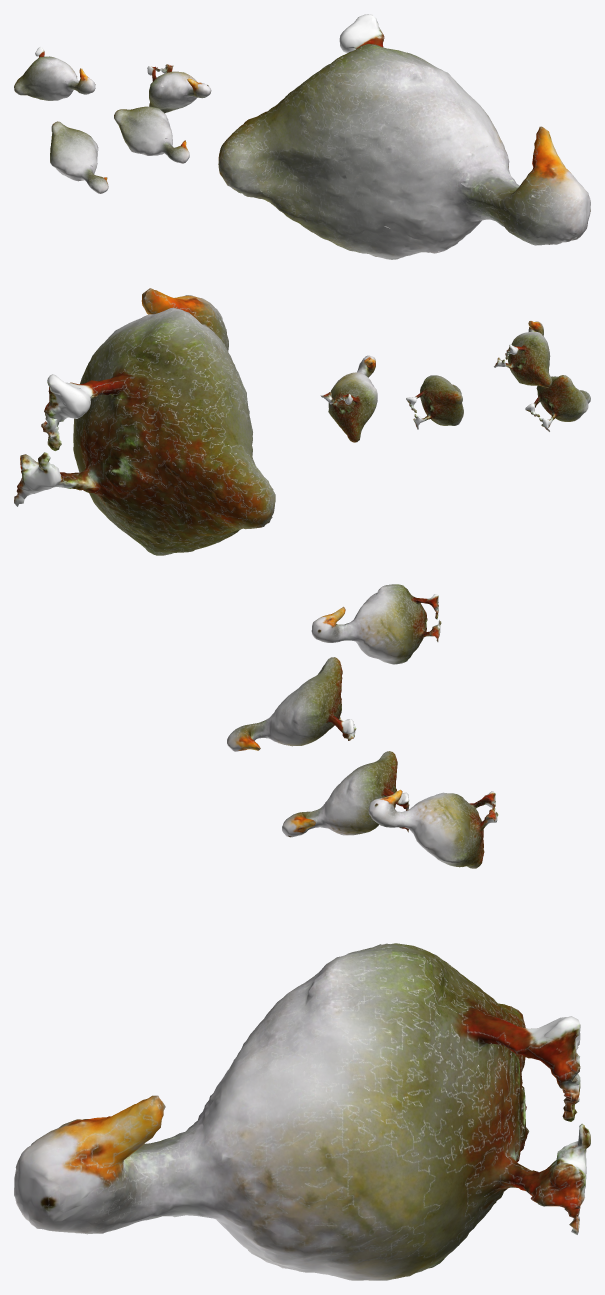
File: duck_4.glb
3 views of the same model, one above another, from view 1: azimuth 30°, elevation 25°; view 2: azimuth 150°, elevation 25°; view 3: azimuth 270°, elevation 25° (orthographic). The views are drawn at different scales.
Parts seen in each view (by area): view 1: model, model.003, model.001, model.002, model.004; view 2: model, model.004, model.002, model.003, model.001; view 3: model, model.002, model.004, model.001, model.003.
Part boxes in pixels (x1,y1,x2,y2): model: (218, 14, 590, 259); model.003: (114, 106, 189, 163); model.001: (50, 121, 108, 193); model.002: (14, 47, 95, 100); model.004: (147, 64, 211, 113); model: (14, 288, 275, 555); model.004: (320, 355, 377, 442); model.002: (494, 321, 552, 387); model.003: (406, 375, 463, 429); model.001: (525, 375, 590, 431); model: (14, 943, 590, 1280); model.002: (311, 584, 441, 664); model.004: (368, 789, 498, 868); model.001: (227, 657, 356, 751); model.003: (282, 751, 409, 837).
Size of the model in its own units: 1.73 by 0.9919 by 1.19.
Materials: 5 (5 with a texture image).
